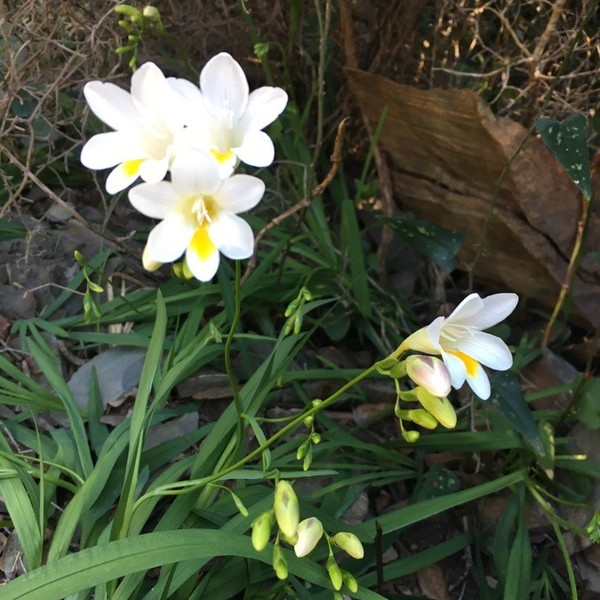obstacle: (108, 289, 521, 589), (64, 58, 310, 274)
